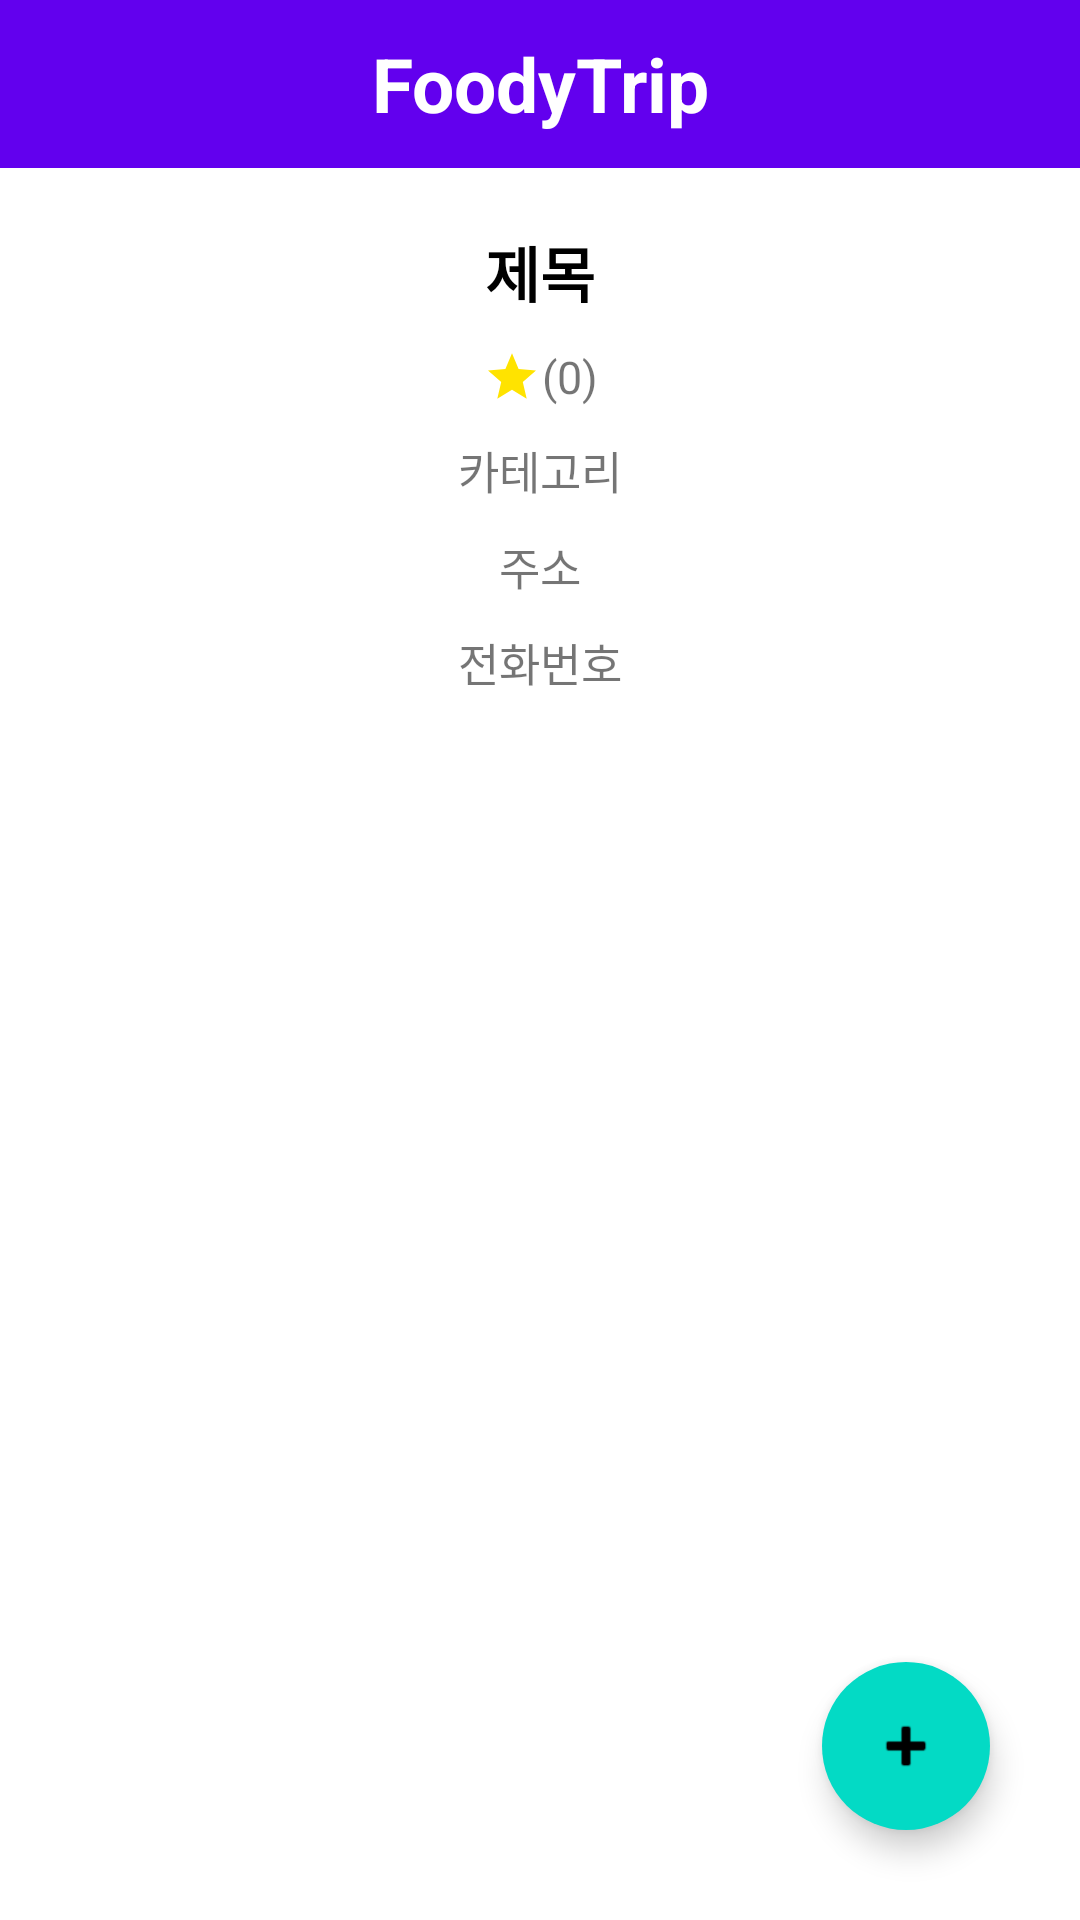

Where icons sit on this 1080px×1920px app screen, as (x1, y1, x2, y2):
add: (822, 1662, 990, 1830)
star: (488, 353, 536, 399)
